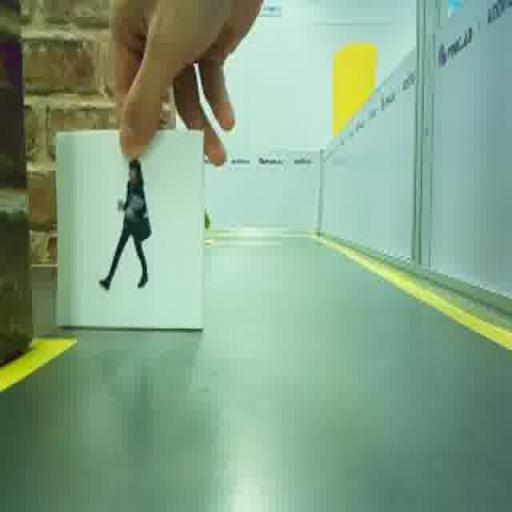human: (98, 160, 151, 288)
